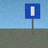sign: (25, 3, 40, 35)
